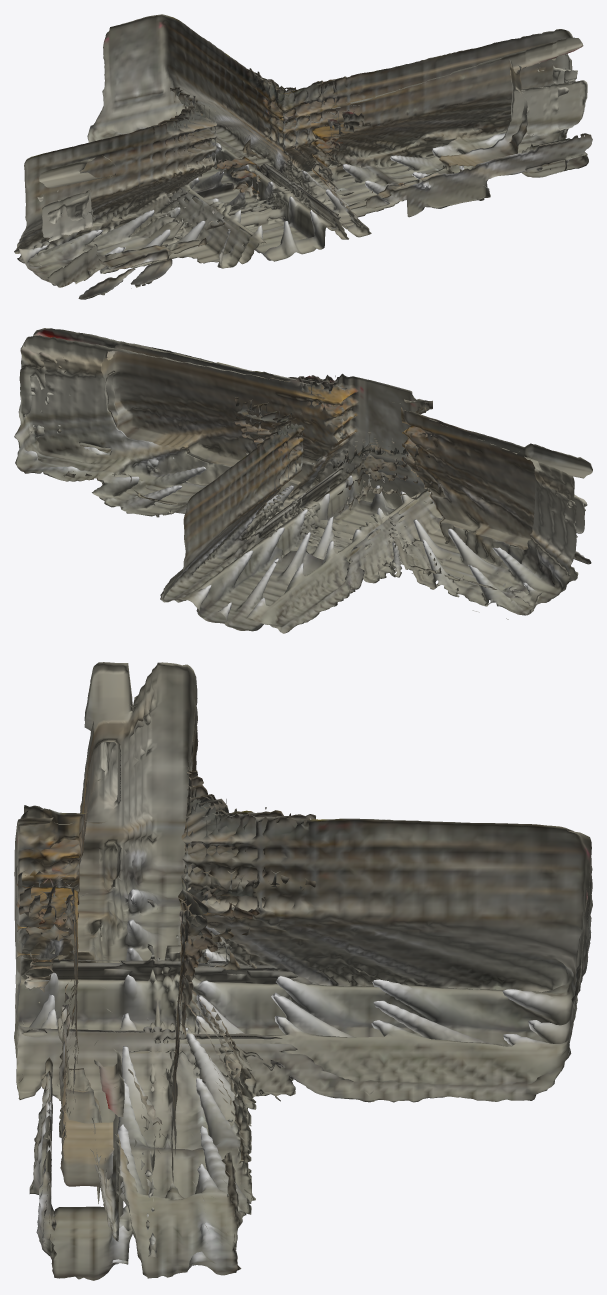
Rendered from collider.glb.
The picture shows the model from 3 angles, top to bottom: view 1: azimuth 30°, elevation 25°; view 2: azimuth 150°, elevation 25°; view 3: azimuth 270°, elevation 25°; orthographic projection. The views are drawn at different scales.
Parts seen in each view (by area): view 1: world; view 2: world; view 3: world.
Boxes of the visible parts, left/top/right/bottom form: world: left=14, top=14, right=592, bottom=299; world: left=14, top=328, right=592, bottom=633; world: left=14, top=662, right=592, bottom=1280.
Bounding box in the file's own units: 24.13 × 5.43 × 12.98.
